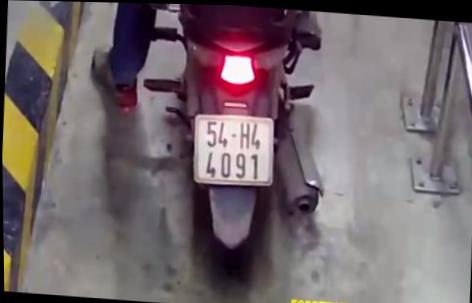LP: (190, 108, 276, 188)
